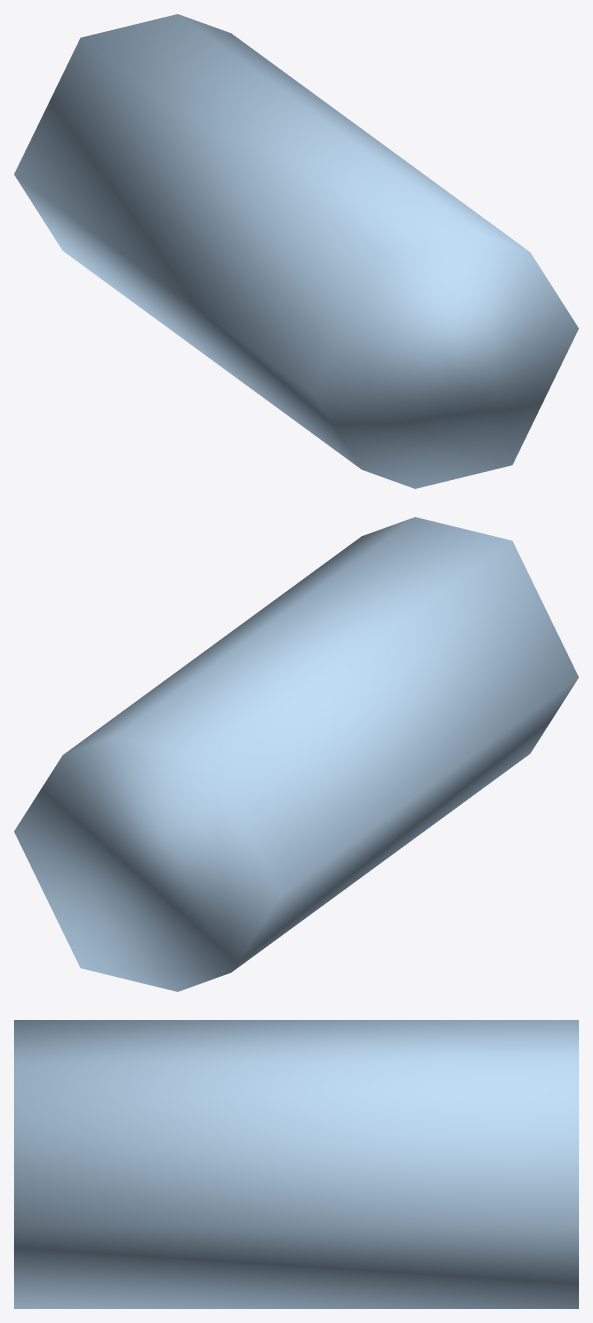
The model's file is morganite.glb.
The picture shows the model from 3 angles, top to bottom: view 1: azimuth 30°, elevation 25°; view 2: azimuth 150°, elevation 25°; view 3: azimuth 270°, elevation 25°; orthographic projection. The views are drawn at different scales.
Visible parts, largest first — view 1: morganite; view 2: morganite; view 3: morganite.
Boxes of the visible parts, box(x1,y1,x2,y2) form: morganite: box(14, 14, 578, 488); morganite: box(14, 517, 578, 991); morganite: box(14, 1020, 578, 1308).
Size of the model in its own units: 0.4619 by 0.4 by 0.9.
